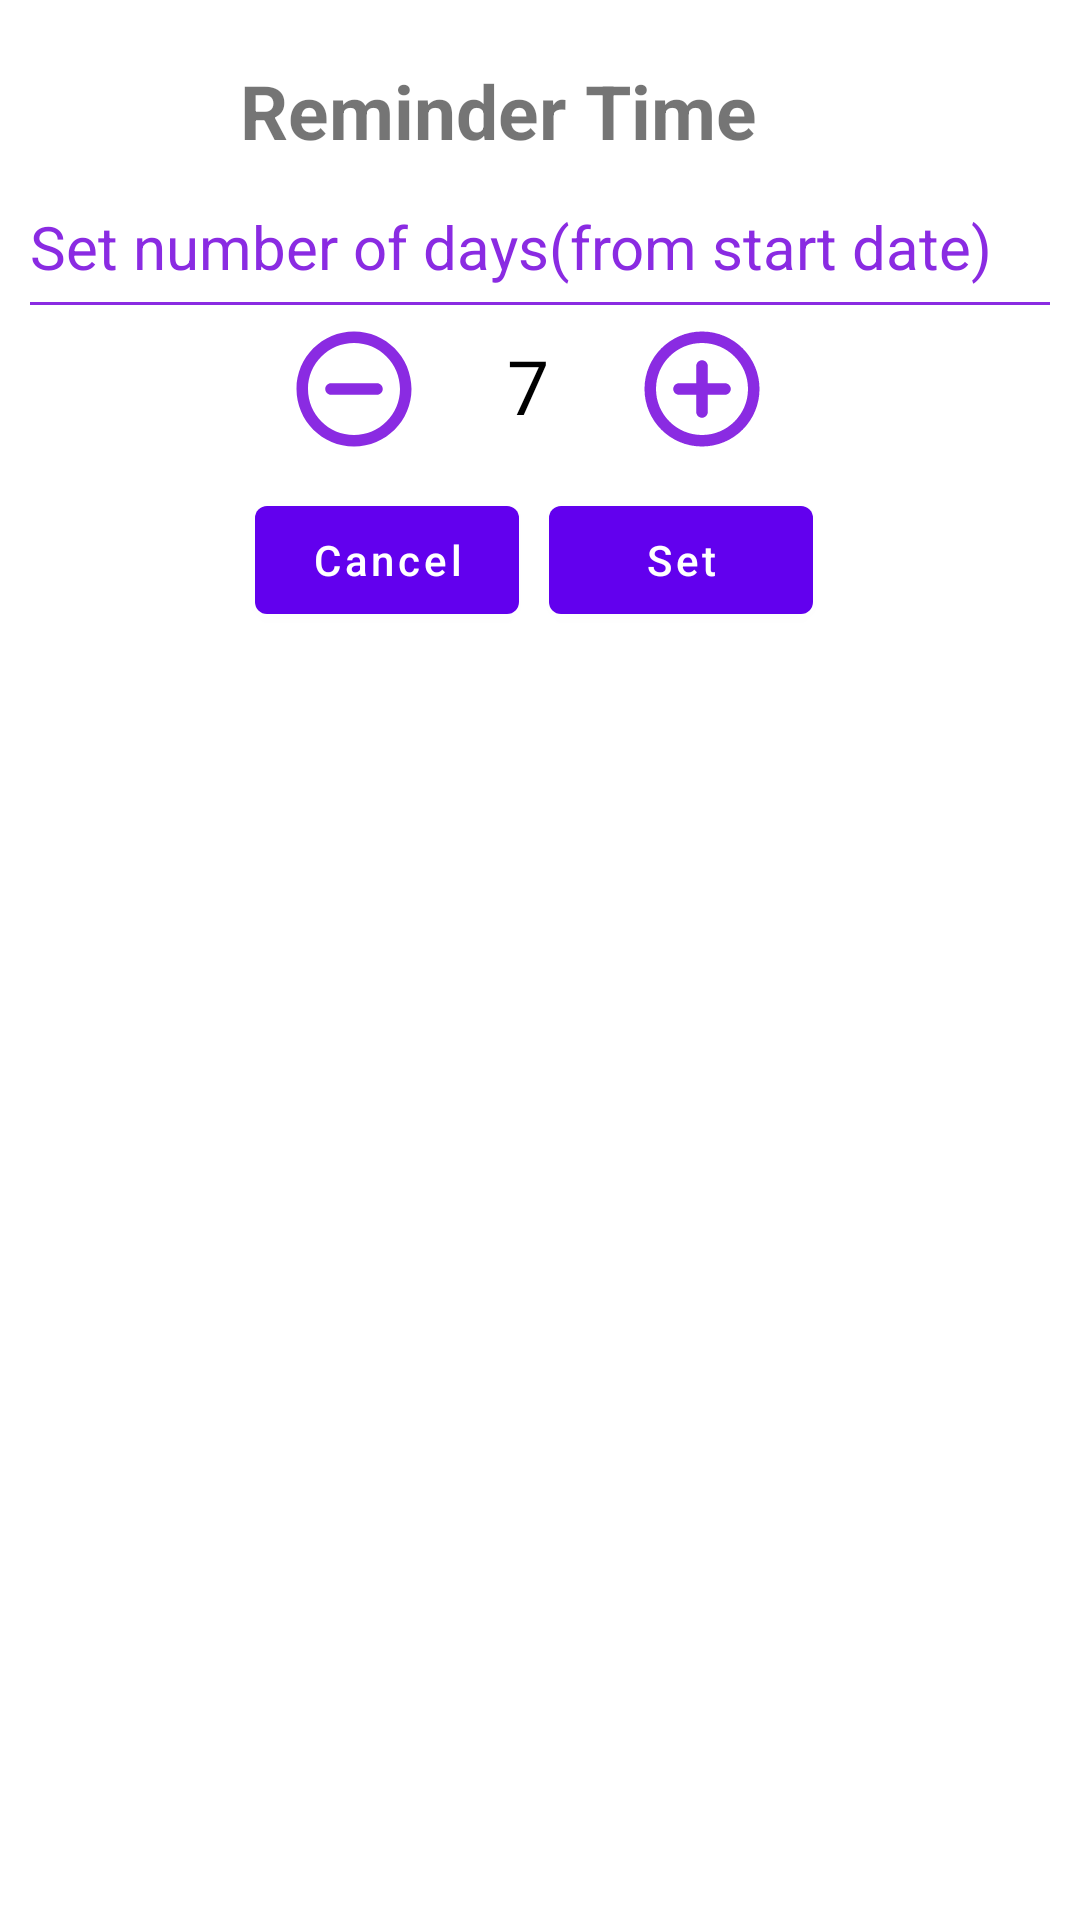

Where icons sit on this 1080px x 1920px app screen, as (x1, y1, x2, y2):
add circle: (644, 331, 760, 447)
remove circle: (296, 331, 412, 447)
